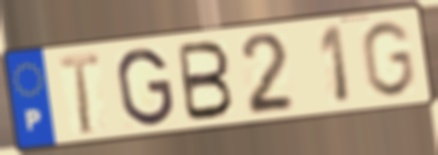1: (318, 22, 352, 108)
2: (238, 31, 299, 118)
B: (175, 39, 236, 124)
G: (114, 46, 177, 129), (358, 18, 418, 100)
T: (56, 50, 103, 138)
